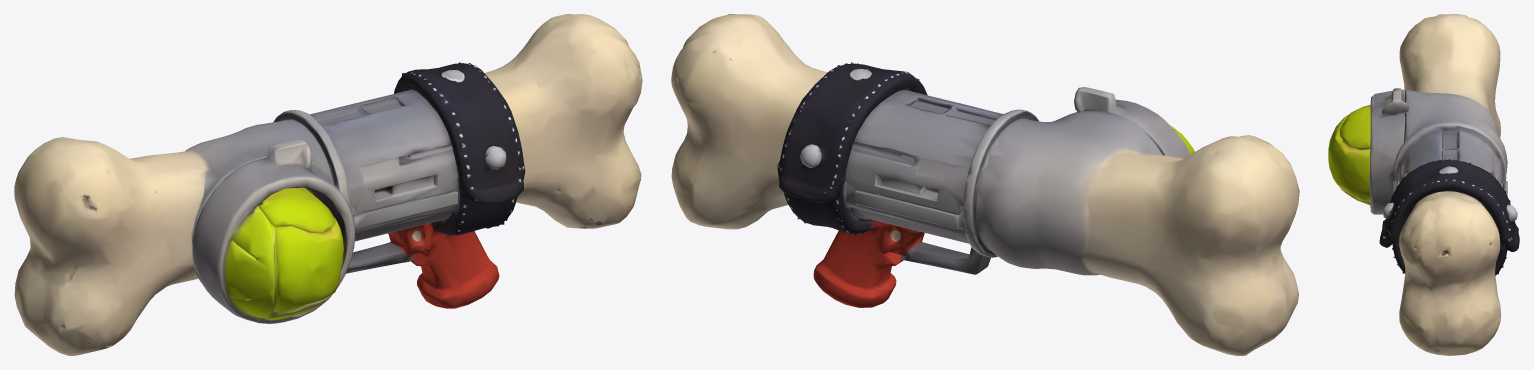
The model's file is bone_launcher.glb.
The picture shows the model from 3 angles, left to right: view 1: azimuth 30°, elevation 25°; view 2: azimuth 150°, elevation 25°; view 3: azimuth 270°, elevation 25°; orthographic projection. The views are drawn at different scales.
Visible parts, largest first — view 1: tripo_node_79bb73fa-79a5-4711-9769-550d6a4935cd; view 2: tripo_node_79bb73fa-79a5-4711-9769-550d6a4935cd; view 3: tripo_node_79bb73fa-79a5-4711-9769-550d6a4935cd.
Boxes of the visible parts, x1,y1,x2,y2 form: tripo_node_79bb73fa-79a5-4711-9769-550d6a4935cd: [14, 14, 642, 355]; tripo_node_79bb73fa-79a5-4711-9769-550d6a4935cd: [671, 14, 1299, 355]; tripo_node_79bb73fa-79a5-4711-9769-550d6a4935cd: [1328, 14, 1519, 355].
Bounding box in the file's own units: 0.9803 × 0.3839 × 0.3634.
Materials: 1 (1 with a texture image).
